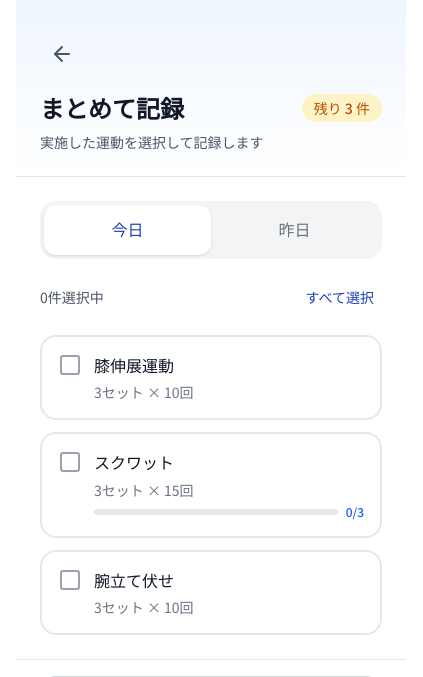
U-15 BatchRecord › checkbox interaction › should update selected count display
What coordinates should you click on to do the following:
click the checkbox labelled "膝伸展運動 3セット × 10回"
I would click on:
 (134, 365)
Its box is [40,335,382,420].
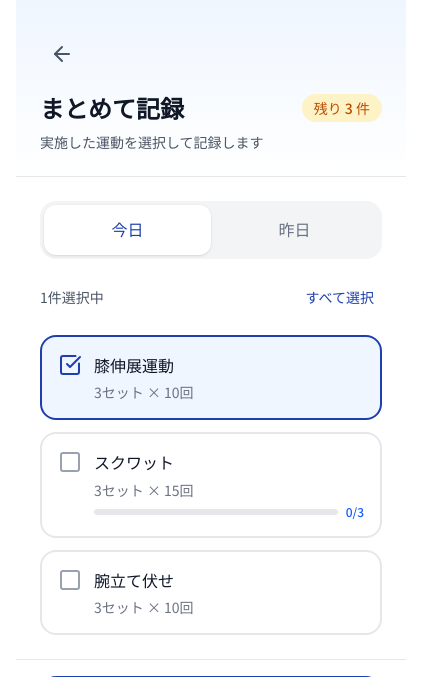
Expected: the text "1件選択中" is shown, [40,287,104,307]
What coordinates should you click on to do the following:
click the checkbox labelled "スクワット 3セット × 15回 0/3"
I would click on:
 (134, 462)
Its box is [40,432,382,538].
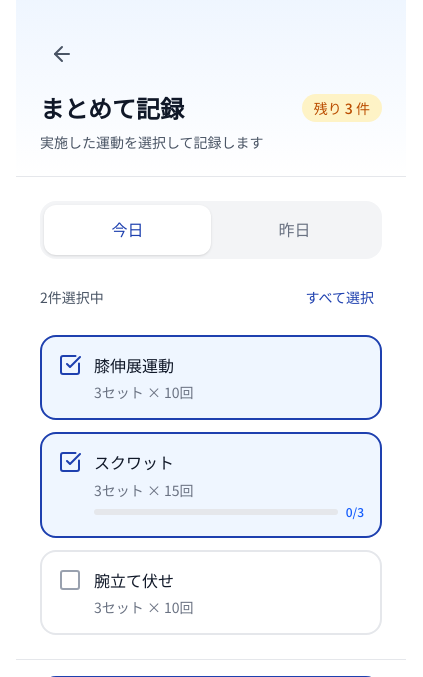
Expected: the text "2件選択中" is shown, [40,287,104,307]
